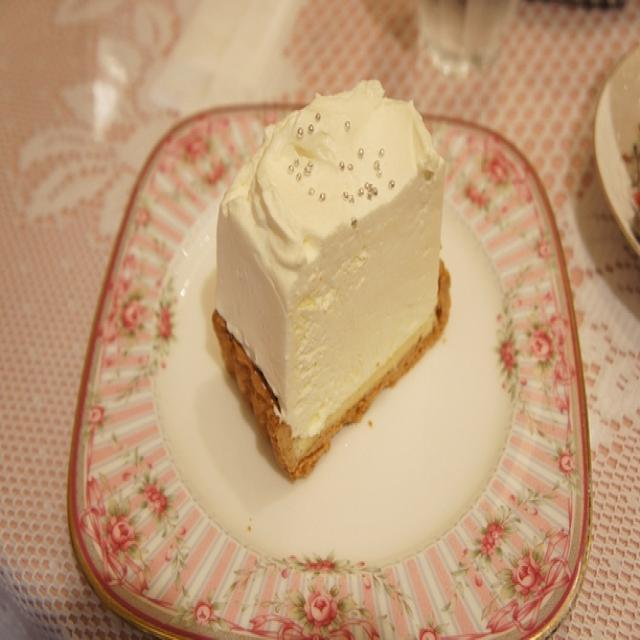Rare cheese cake: (175, 69, 494, 507)
